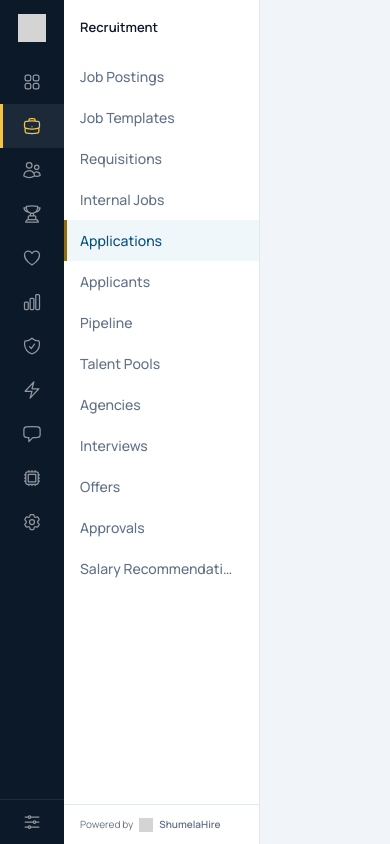
it: the panel › switches section when a rail button is clicked
Click the button named "Analytics" at (32, 302), box [0,280,64,324]
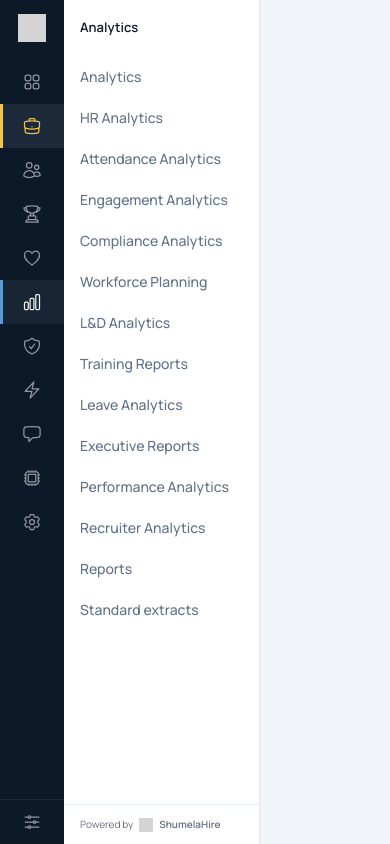
Check: the navigation bar named "Analytics pages" is shown, box [64,0,260,843]
